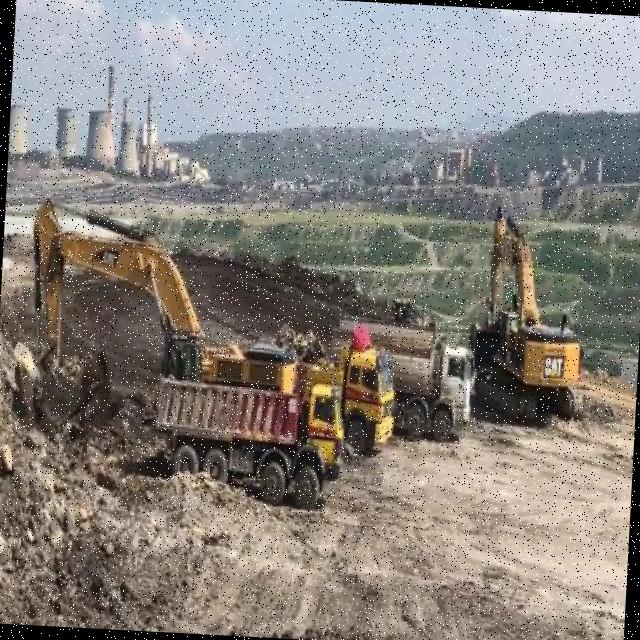Dump Truck: (150, 371, 347, 521), (396, 339, 476, 437), (344, 348, 394, 450)
Excavator: (21, 196, 294, 386), (471, 207, 591, 420)
